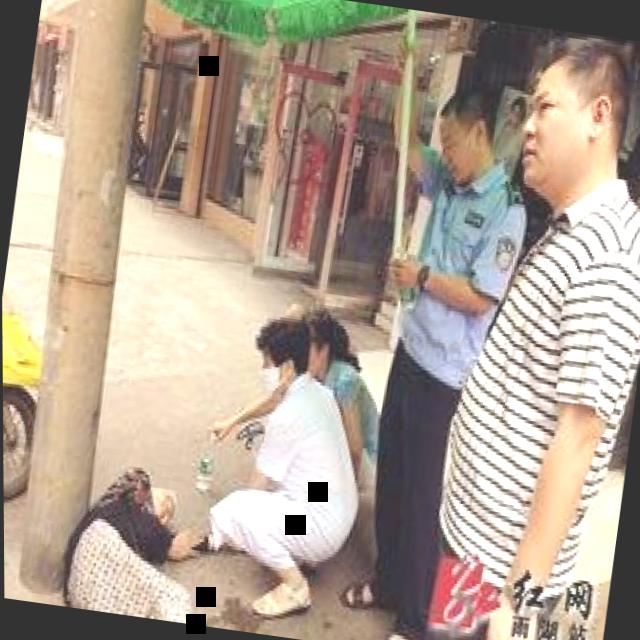Fall-Detected: (35, 424, 270, 632)
